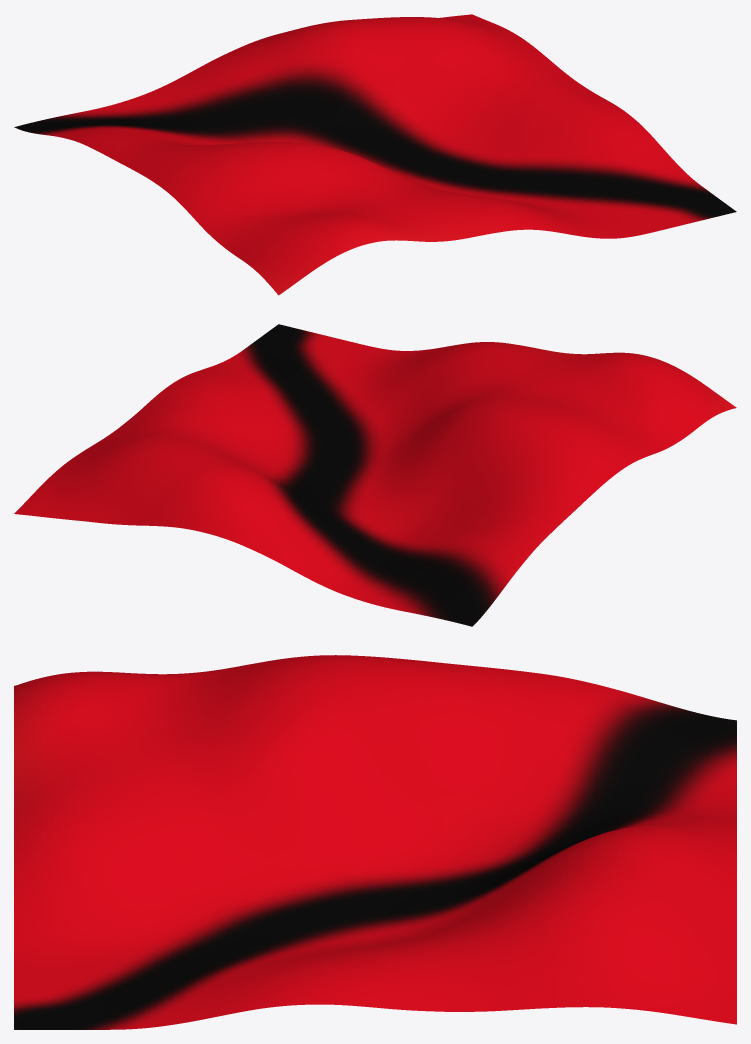
Rendered from terrain.glb.
The picture shows the model from 3 angles, top to bottom: view 1: azimuth 30°, elevation 25°; view 2: azimuth 150°, elevation 25°; view 3: azimuth 270°, elevation 25°; orthographic projection. The views are drawn at different scales.
Parts seen in each view (by area): view 1: Grid; view 2: Grid; view 3: Grid.
Part boxes in pixels (box(x1,y1,x2,y2)): Grid: box(14, 14, 736, 295); Grid: box(14, 324, 736, 626); Grid: box(14, 655, 736, 1029).
Bounding box in the file's own units: 32 × 4.84 × 32.
